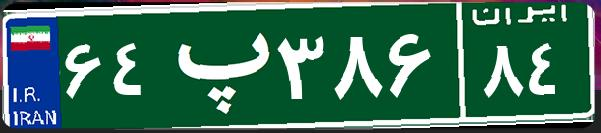3: (273, 28, 330, 110)
4: (110, 28, 158, 105), (525, 38, 570, 115)
6: (385, 28, 445, 110), (57, 26, 110, 107)
8: (330, 28, 385, 110), (475, 38, 525, 113)
پ: (158, 15, 273, 115)
